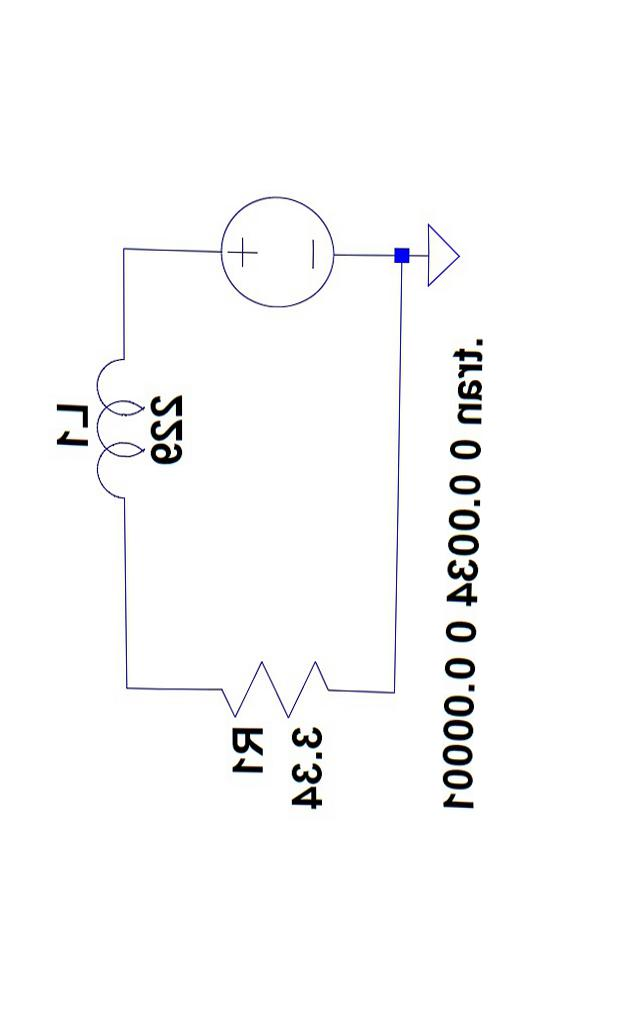Battery: (173, 173, 368, 340)
